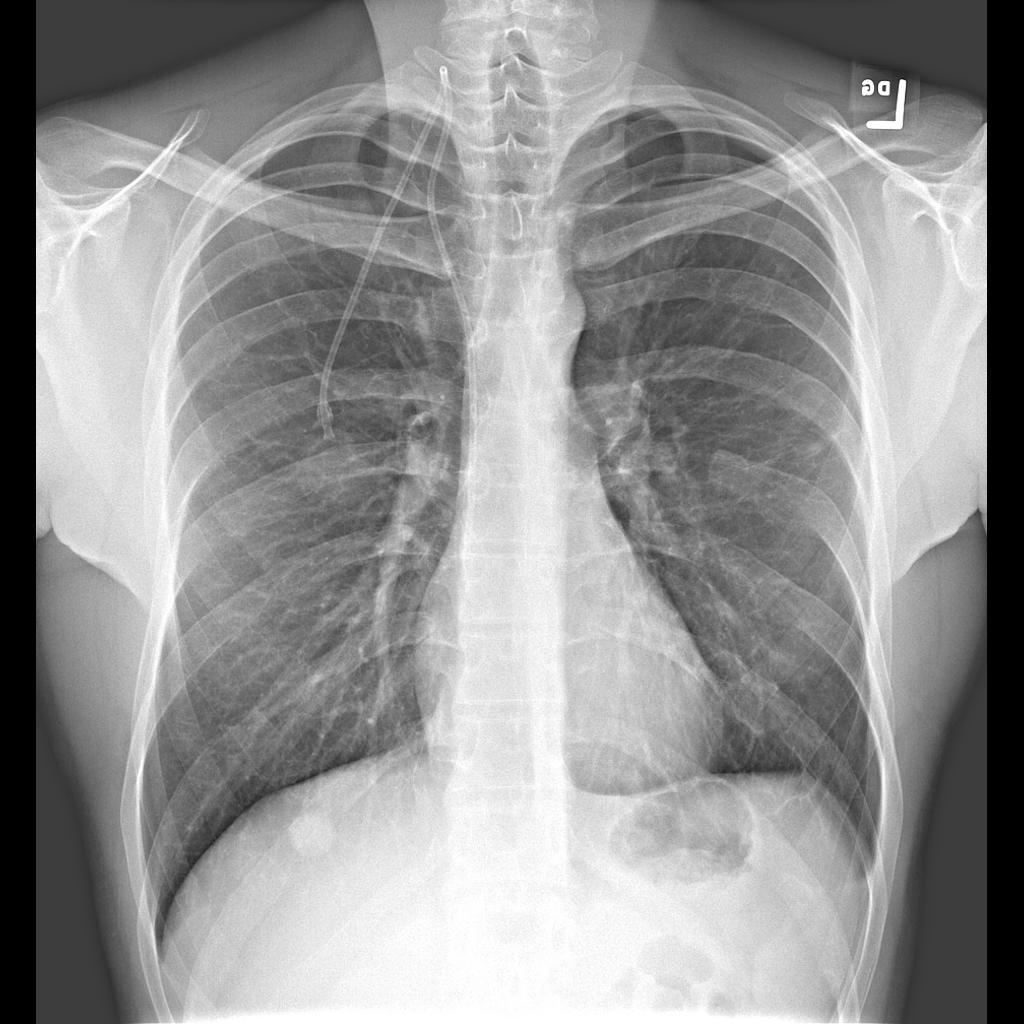Nodule: (702, 444, 762, 513)
